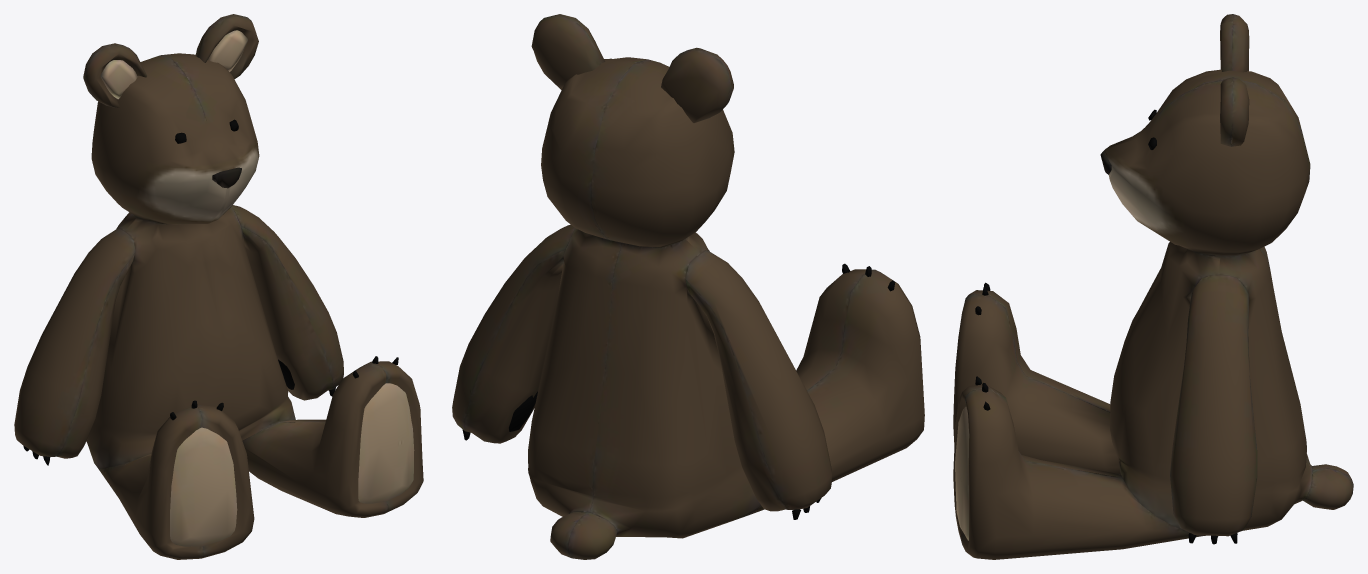
Rendered from teddy.glb.
3 renders of one model, left to right at view 1: azimuth 30°, elevation 25°; view 2: azimuth 150°, elevation 25°; view 3: azimuth 270°, elevation 25°, orthographic. The views are drawn at different scales.
Visible parts, largest first — view 1: body.004; view 2: body.004; view 3: body.004.
Part boxes in pixels (<box>): body.004: <box>14,14,423,559</box>; body.004: <box>452,14,924,559</box>; body.004: <box>953,14,1353,559</box>.
Bounding box in the file's own units: 0.2981 × 0.3799 × 0.3008.
Materials: 1 (1 with a texture image).
